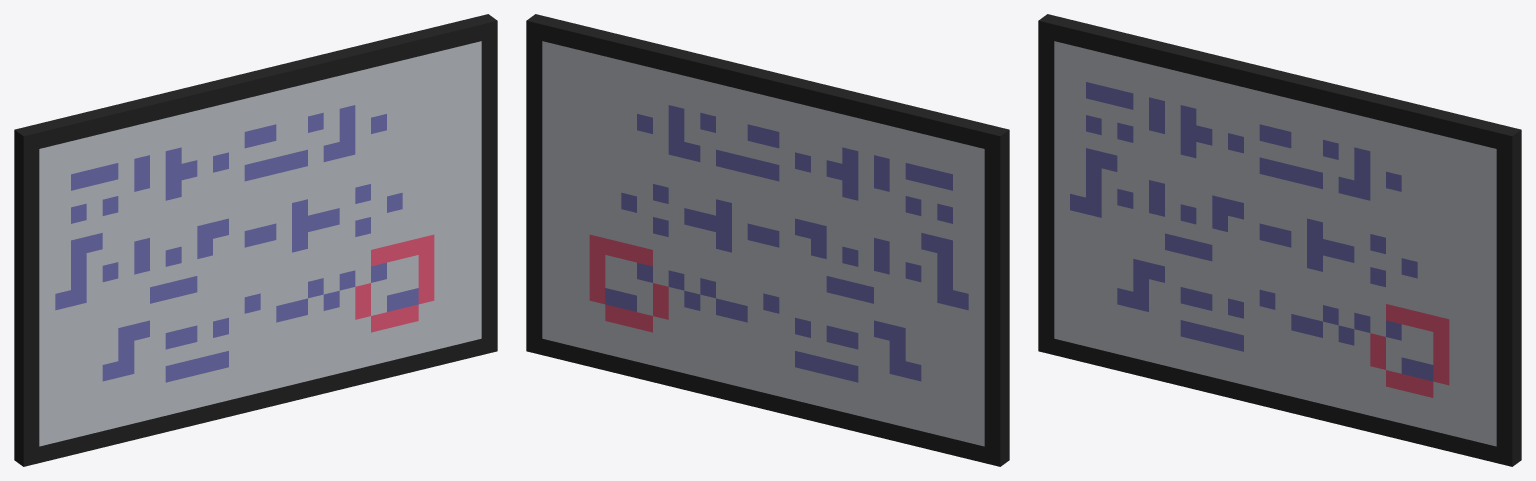
File: whiteboard-2.obj
3 renders of one model, left to right at view 1: azimuth 30°, elevation 25°; view 2: azimuth 150°, elevation 25°; view 3: azimuth 330°, elevation 25°, orthographic.
Size of the model in its own units: 3 by 2 by 0.1.
1 material, 1 textured.
